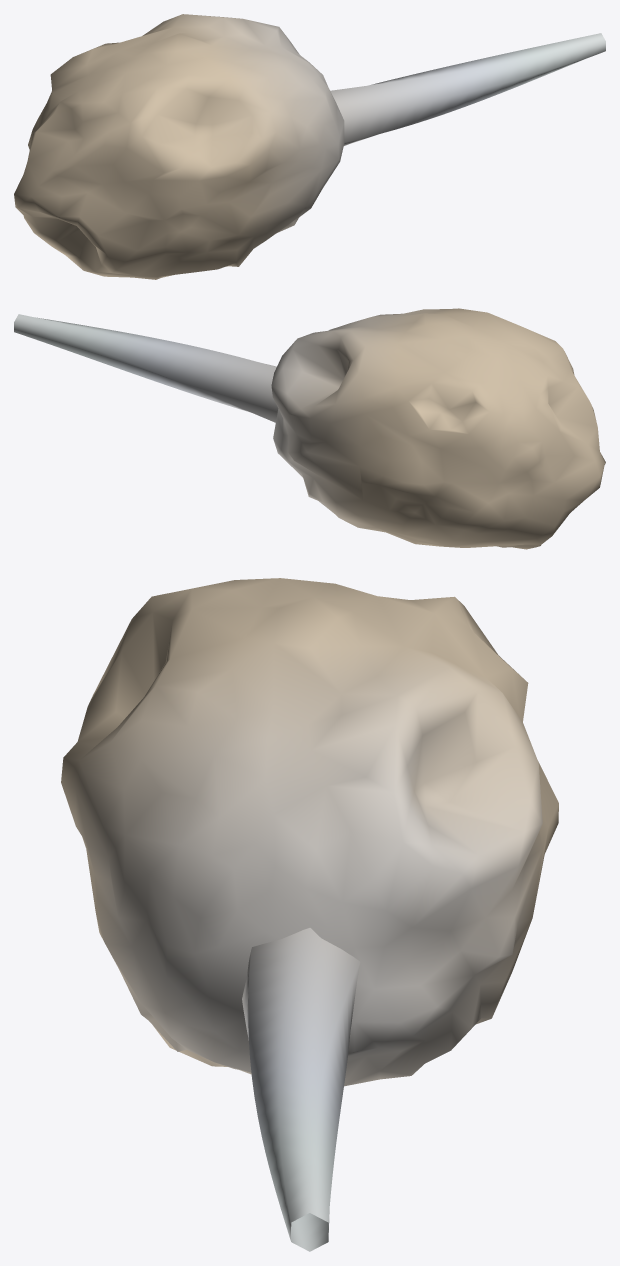
File: asteroid_comet.glb
3 views of the same model, one above another, from view 1: azimuth 30°, elevation 25°; view 2: azimuth 150°, elevation 25°; view 3: azimuth 270°, elevation 25° (orthographic). The views are drawn at different scales.
Parts seen in each view (by area): view 1: VR_Rock_Comet; view 2: VR_Rock_Comet; view 3: VR_Rock_Comet.
Part boxes in pixels (box(x1,y1,x2,y2)): VR_Rock_Comet: box(14, 14, 605, 279); VR_Rock_Comet: box(14, 308, 605, 549); VR_Rock_Comet: box(61, 578, 558, 1251).
Bounding box in the file's own units: 2.81 × 1.02 × 1.04.
